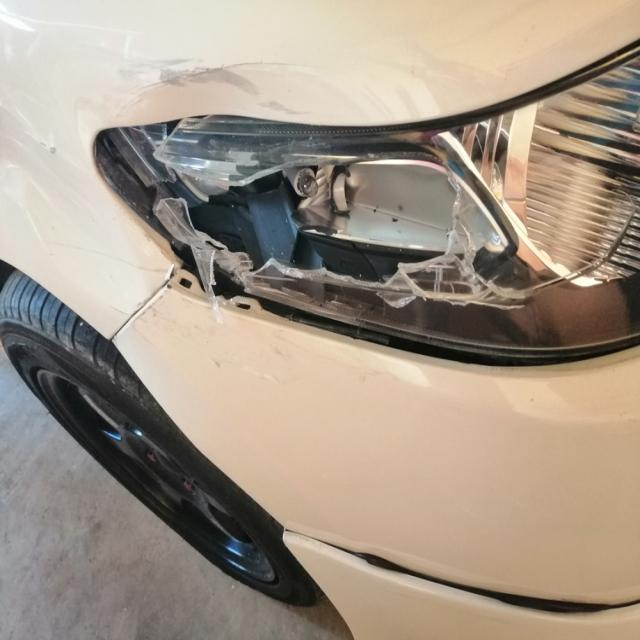Phare abime: (85, 110, 536, 351)
Rayure: (122, 55, 356, 110)
